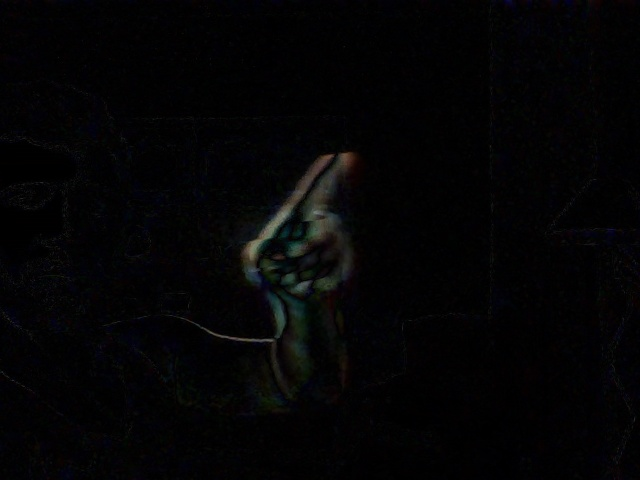hand_po: (248, 132, 372, 297)
